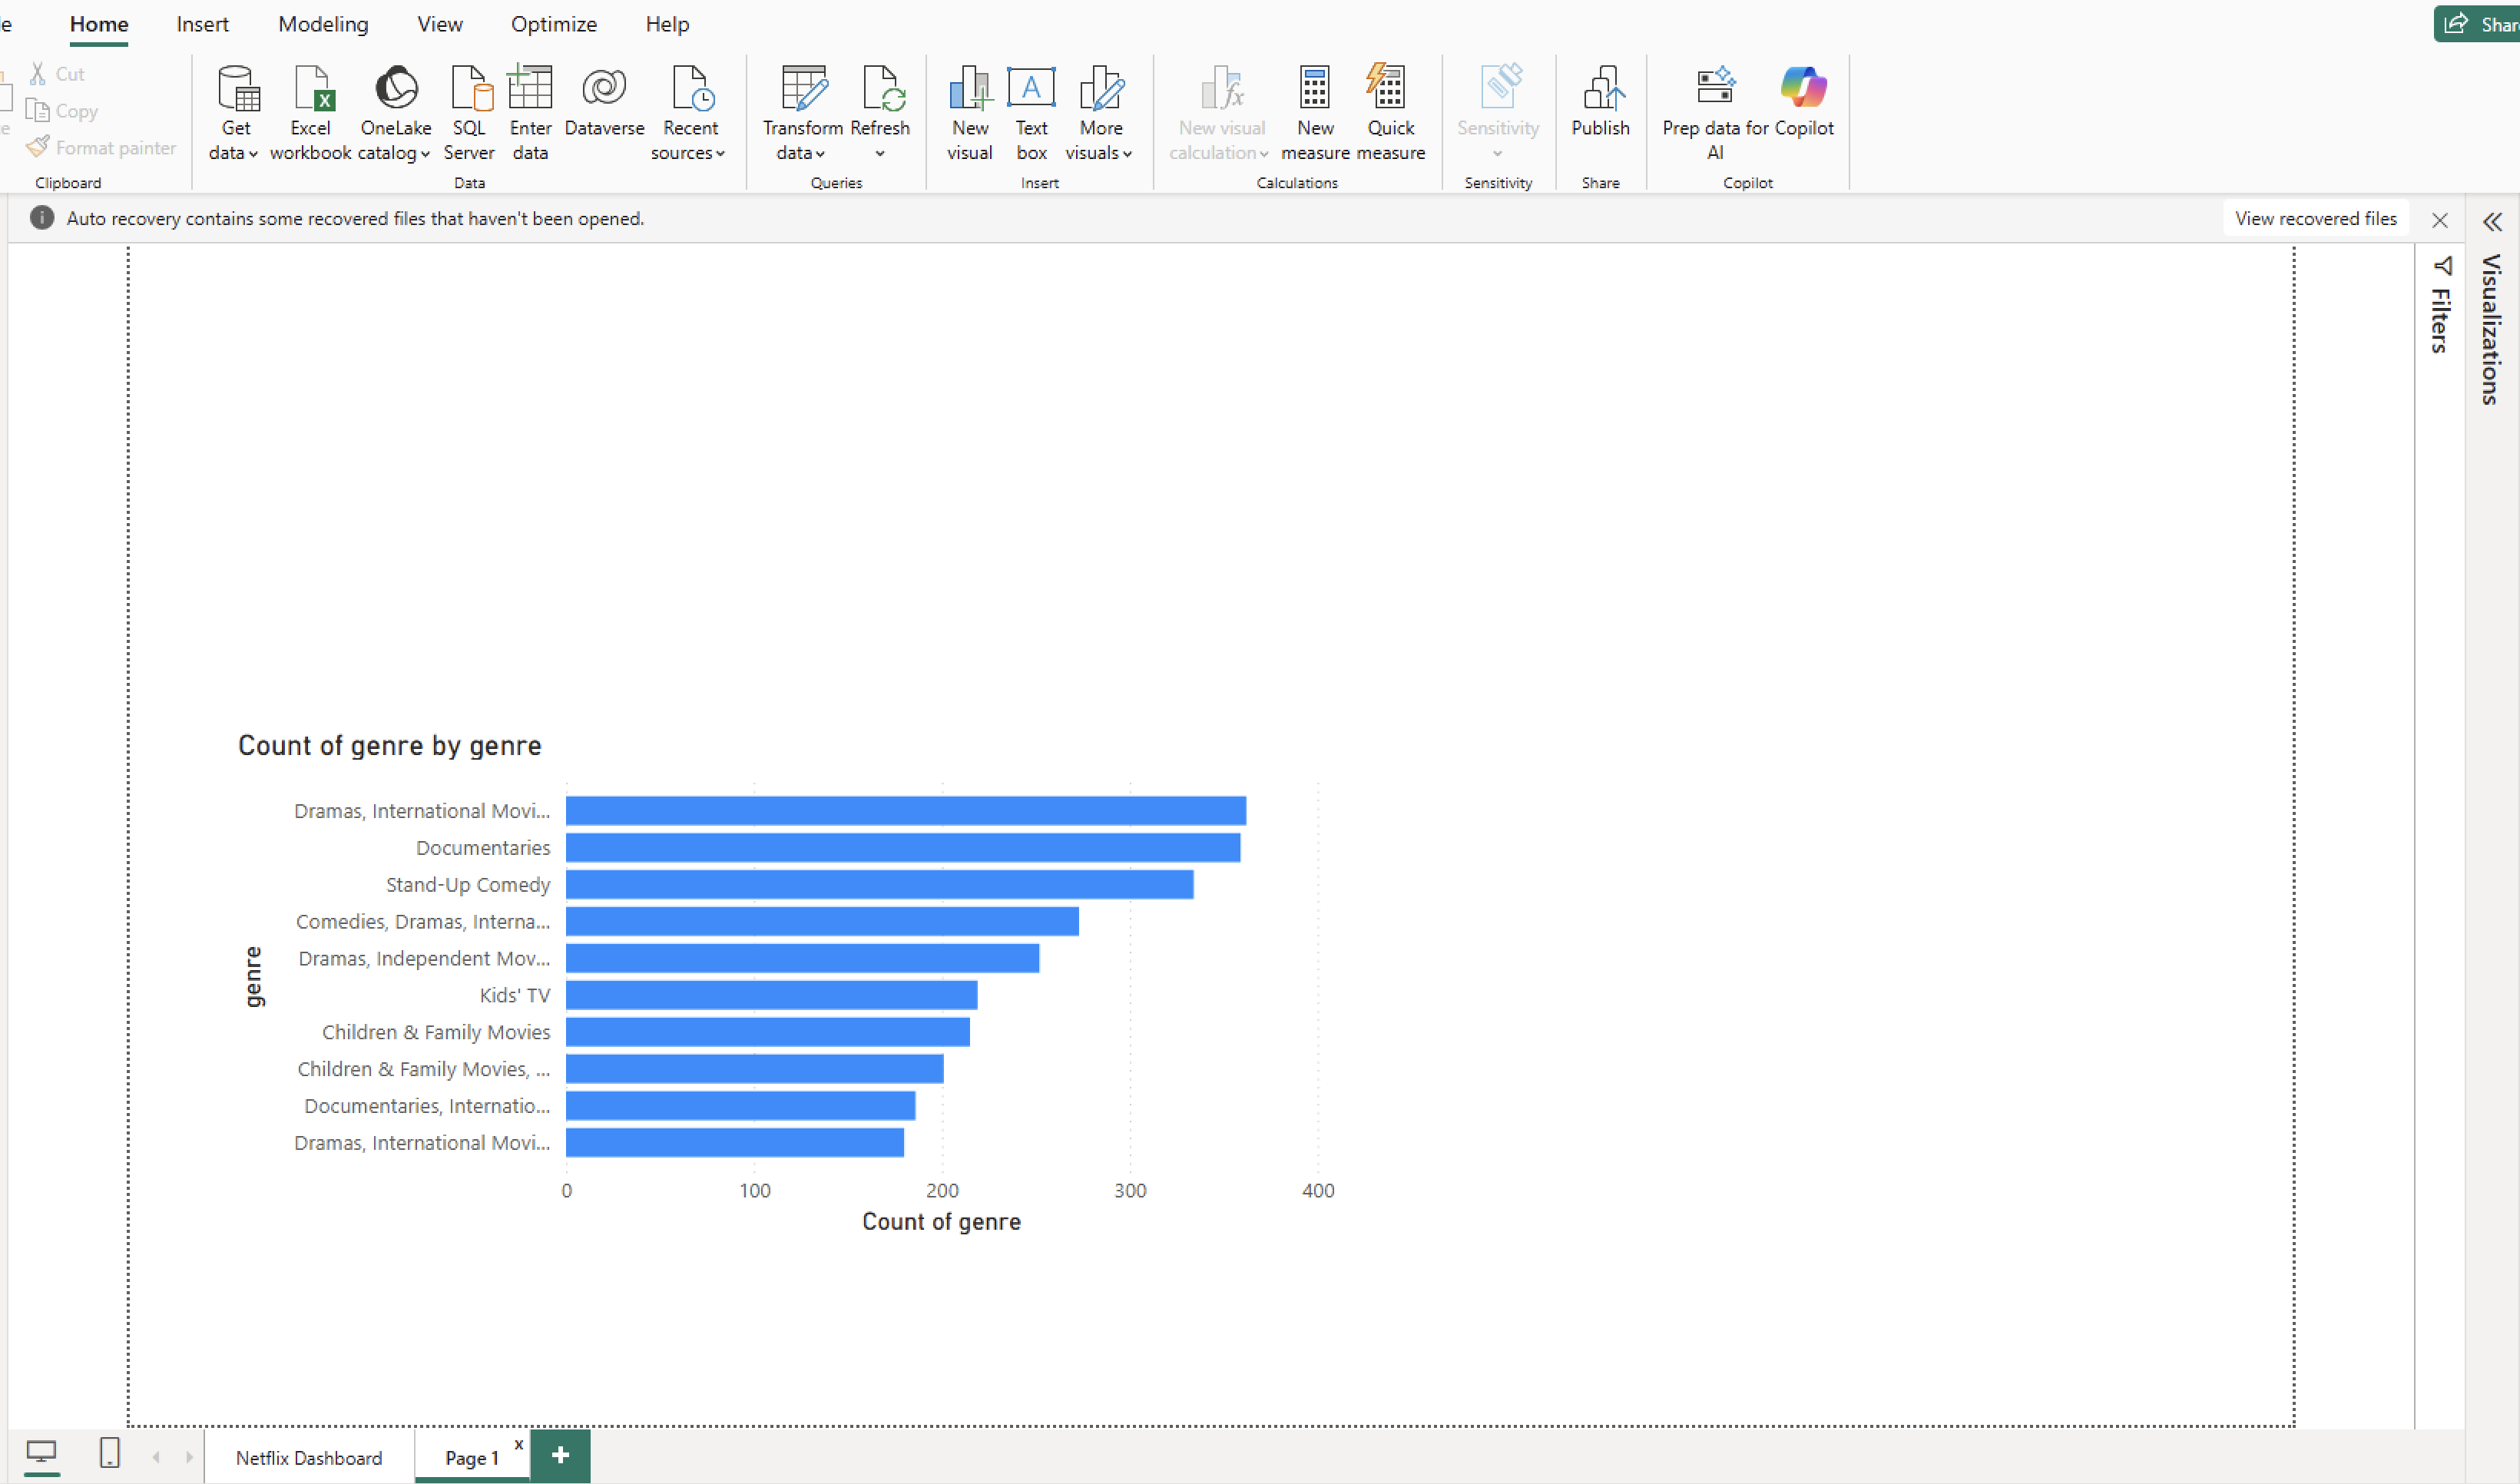

This screenshot's page, from the dashboard's own definition file:
{"tool":"powerbi","page":{"name":"Page 1","canvas":[1280,720],"ordinal":1},"visuals":[{"type":"barChart","fields":{"Category":["netflix_titles.genre"],"Y":["CountNonNull(netflix_titles.genre)"]},"box":[58.9,307.4,658.9,305.3],"z":0}]}

Visuals, with their boxes on the page's 1280x720 design canvas (x1, y1, x2, y2). These are canvas units, not pixel positions in the 2520x1484 screenshot, which may show the page scaled, cropped or inside an application window:
barChart - netflix_titles.genre x CountNonNull(netflix_titles.genre): 59,307,718,613
